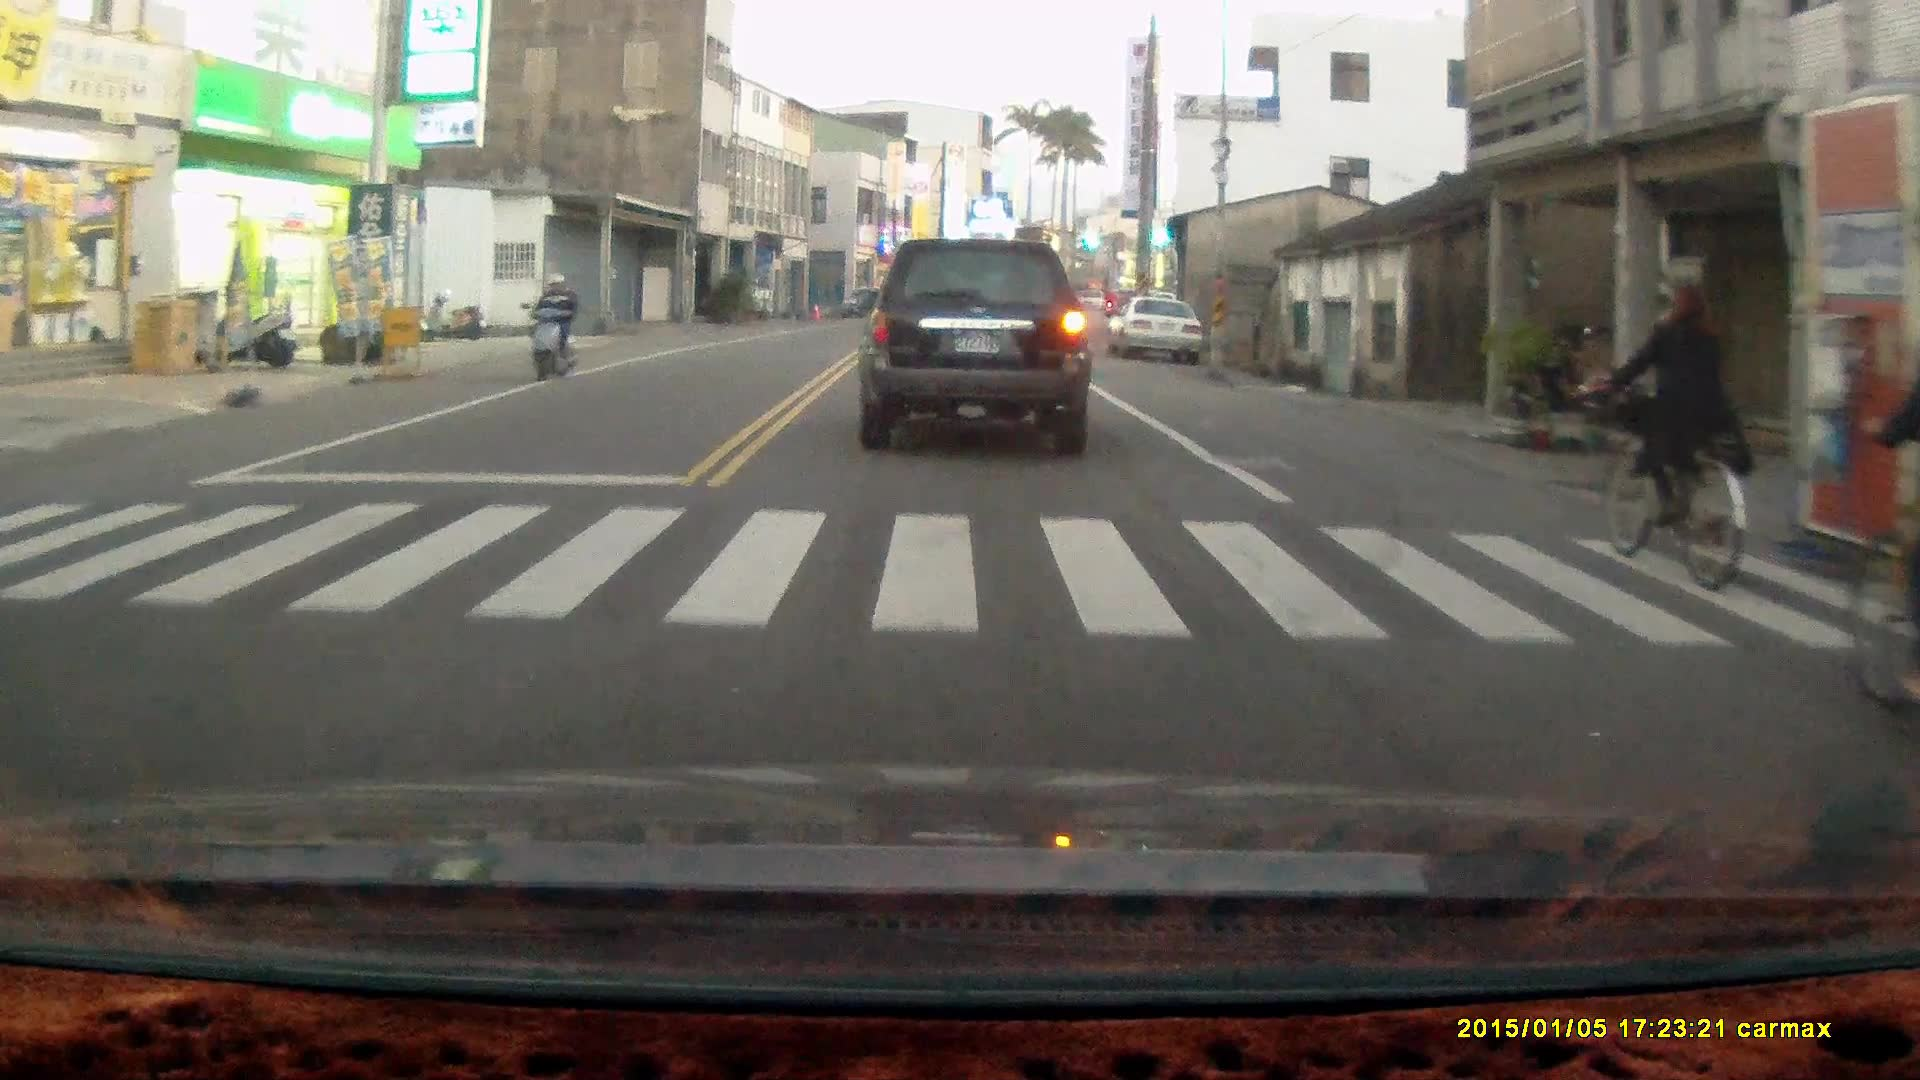rider: (1596, 280, 1751, 596), (1848, 342, 1920, 718), (520, 268, 581, 384)
vehicle: (864, 238, 1096, 463), (1113, 298, 1205, 365)
